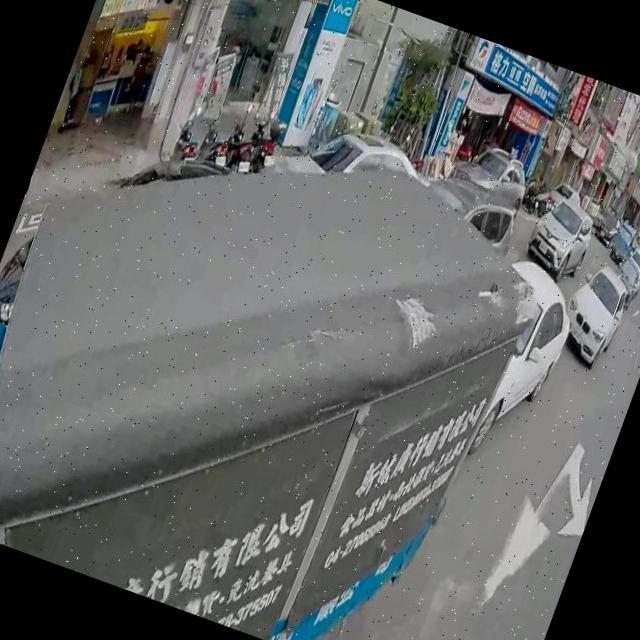person: (52, 50, 98, 134), (115, 45, 153, 115)
